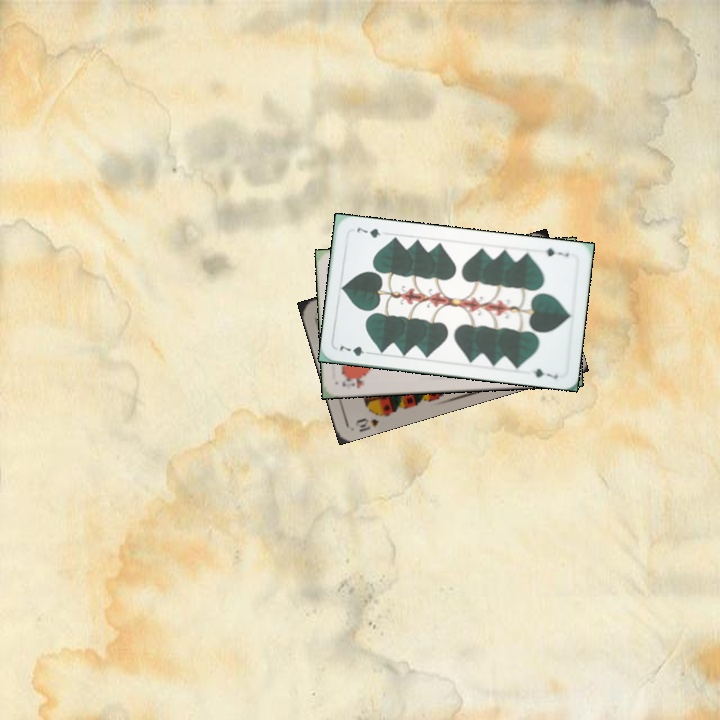G7: (335, 342, 375, 358), (542, 244, 571, 259)
HO: (338, 372, 369, 391)
S10: (351, 408, 388, 434)
